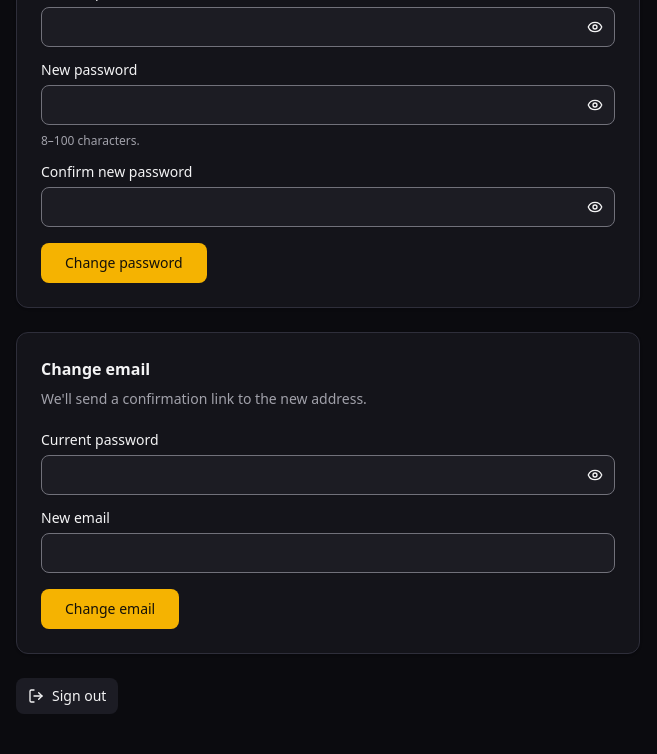
Scenario: change email › EMAIL_TAKEN → error on the new email field
(page scrolled)
Step 1. Type "old-password" into the 2nd password field labelled "Current password" → (328, 475), box left=41, top=455, right=615, bottom=495
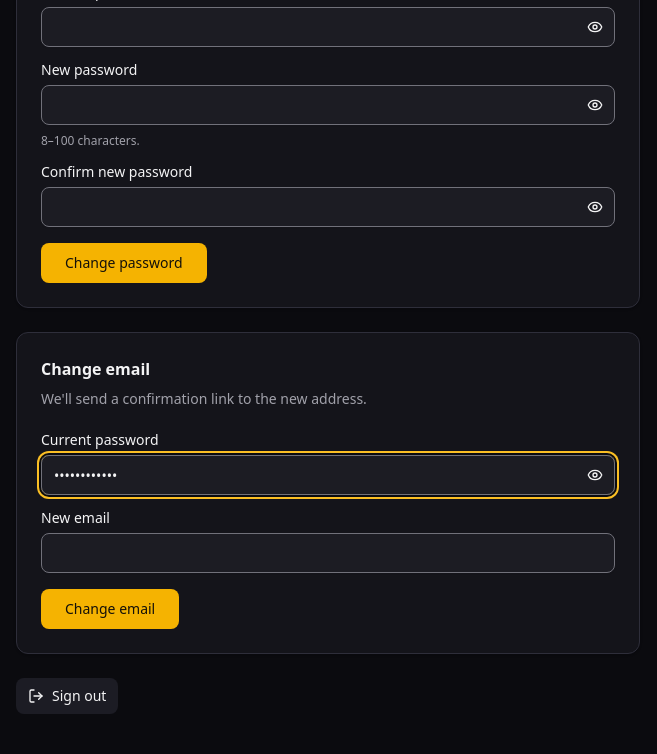
Step 2. Type "taken@example.com" into the field labelled "New email" → (328, 553), box left=41, top=533, right=615, bottom=573
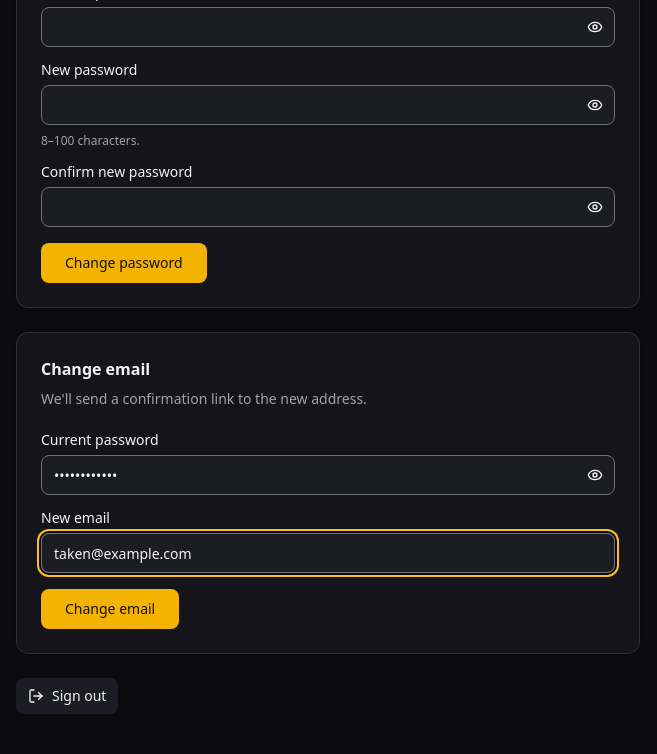
Step 3. Click the button "Change email" → (110, 609), box left=41, top=589, right=179, bottom=629
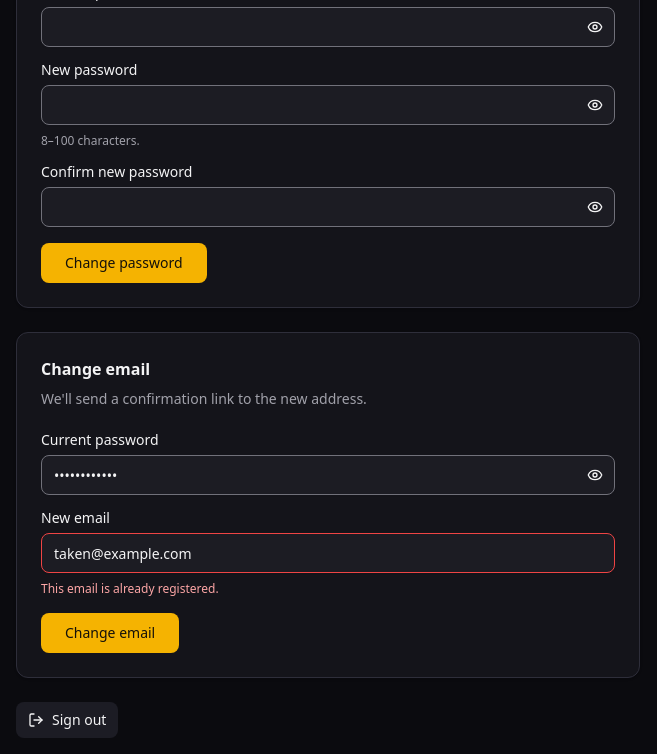
Check: the text "This email is already registered." is shown, box left=41, top=580, right=219, bottom=597
